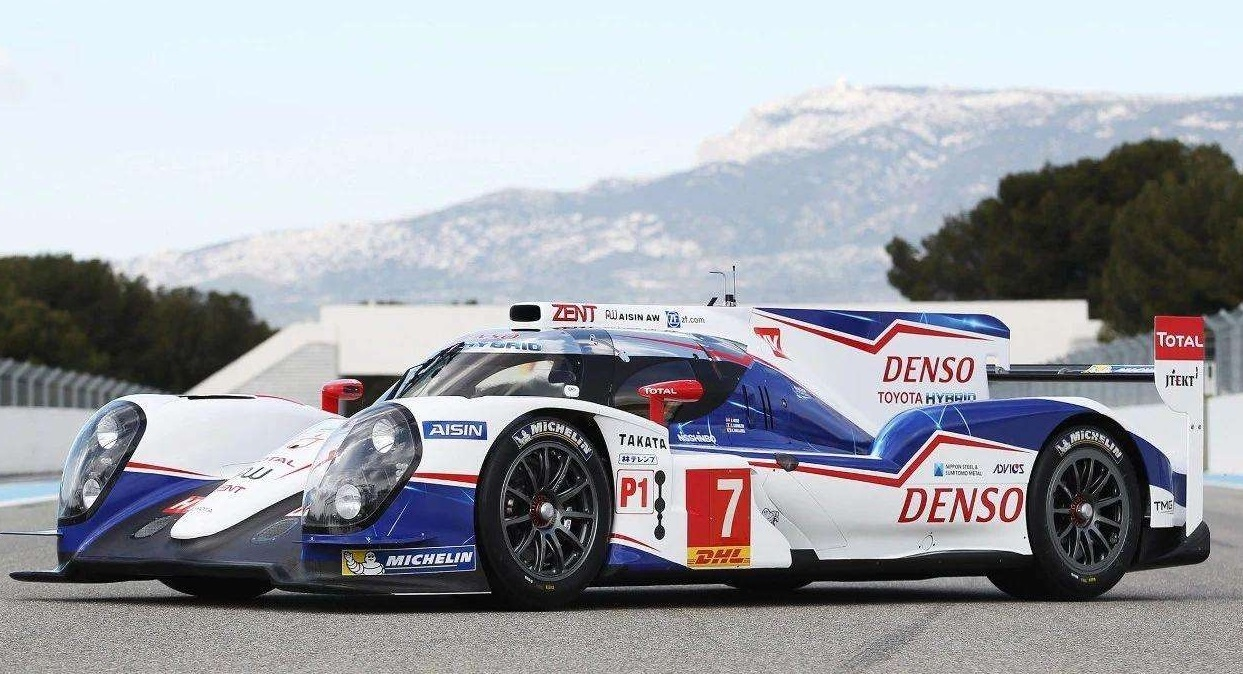racing car: (31, 274, 1213, 633)
